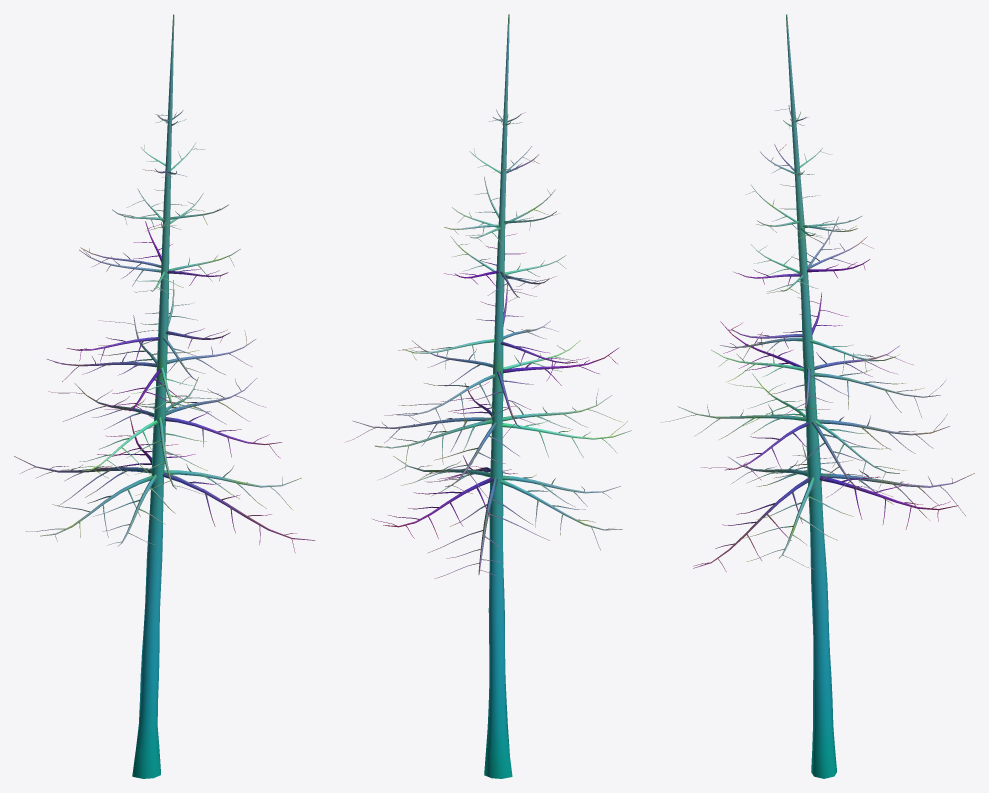
Rendered from larch-grove-b.glb.
The picture shows the model from 3 angles, left to right: view 1: azimuth 30°, elevation 25°; view 2: azimuth 150°, elevation 25°; view 3: azimuth 270°, elevation 25°; orthographic projection. The views are drawn at different scales.
Parts seen in each view (by area): view 1: bark; view 2: bark; view 3: bark.
Part boxes in pixels (left/top/right/bottom): bark: left=14, top=14, right=315, bottom=778; bark: left=344, top=14, right=631, bottom=778; bark: left=660, top=14, right=974, bottom=778.
Bounding box in the file's own units: 8.3 × 24.43 × 9.15.
